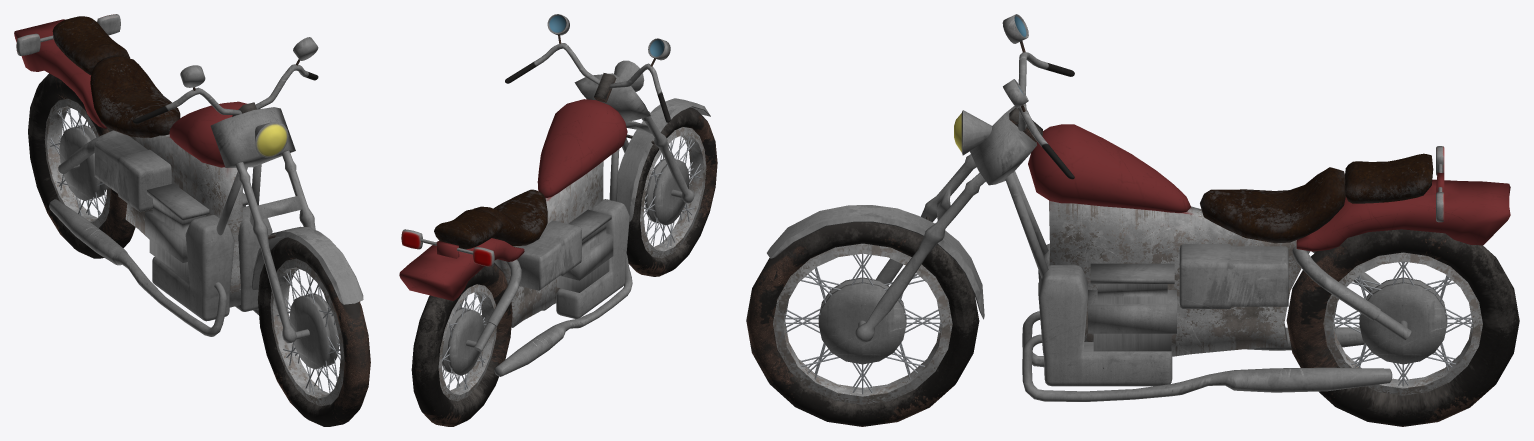
The model's file is Bike.fbx.
The picture shows the model from 3 angles, left to right: view 1: azimuth 30°, elevation 25°; view 2: azimuth 150°, elevation 25°; view 3: azimuth 270°, elevation 25°; orthographic projection. The views are drawn at different scales.
Parts seen in each view (by area): view 1: Plane004; view 2: Plane004; view 3: Plane004.
Boxes of the visible parts, x1,y1,x2,y2 form: Plane004: (14, 14, 370, 426); Plane004: (399, 14, 717, 426); Plane004: (746, 14, 1519, 426).
Size of the model in its own units: 65.54 by 109 by 202.
1 material, 1 textured.
